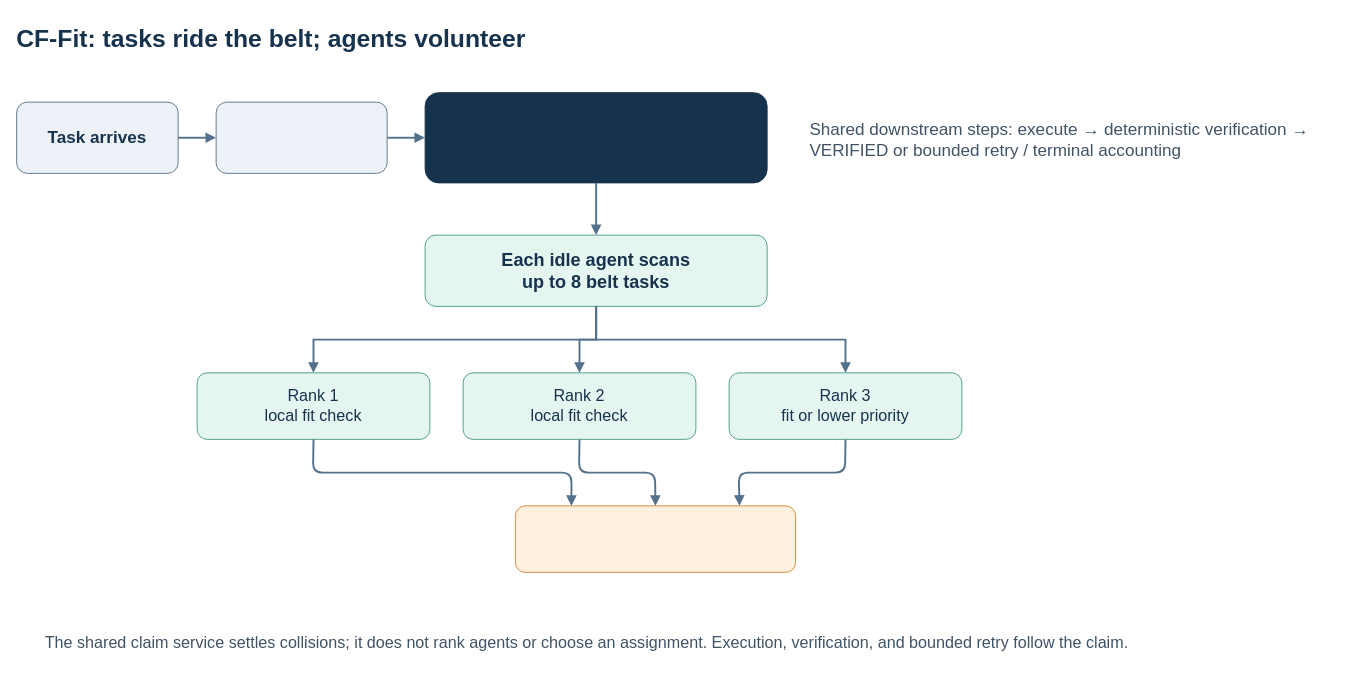
Some shapes in this 1370 by 683 pixel diagram are drawn without their labels. The shapes that lost their labels are listed below. From the top down, each one's centre as x and y in pixels, then its label:
At (301,137): "Dependencies verified?".
At (595,137): "READY belt ordered dependency-ready tasks".
At (655,538): "Atomic claim resolves a race".
